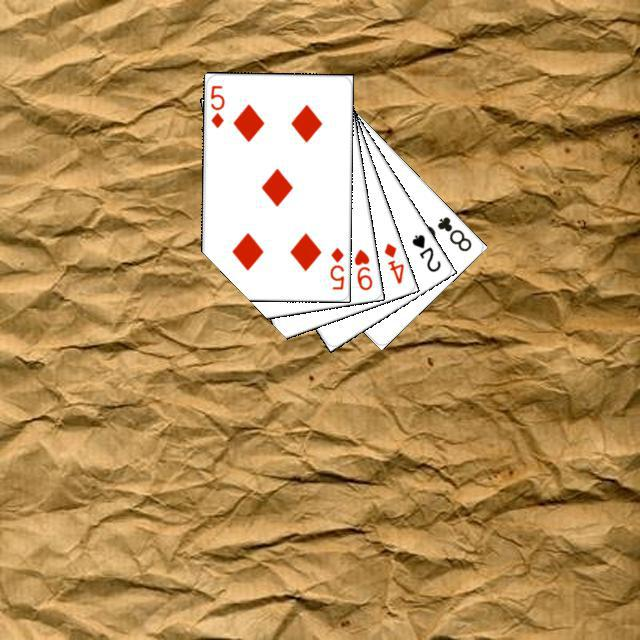2s: (407, 229, 443, 274)
4d: (379, 238, 406, 285)
5d: (325, 242, 346, 291), (206, 81, 226, 130)
8c: (432, 212, 473, 253)
9h: (349, 244, 374, 292)
